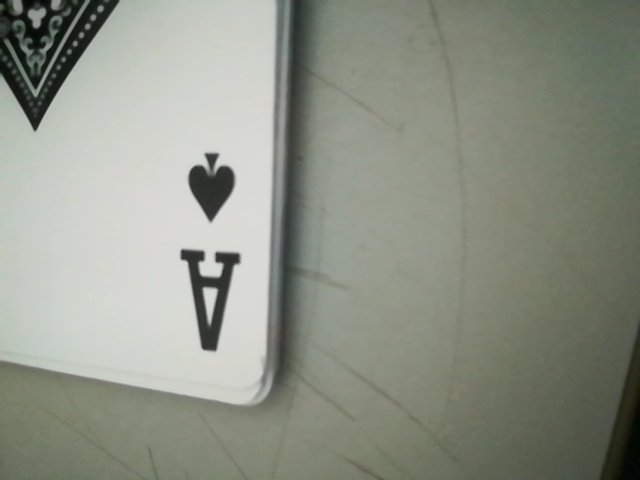ht a: (177, 141, 254, 363)
